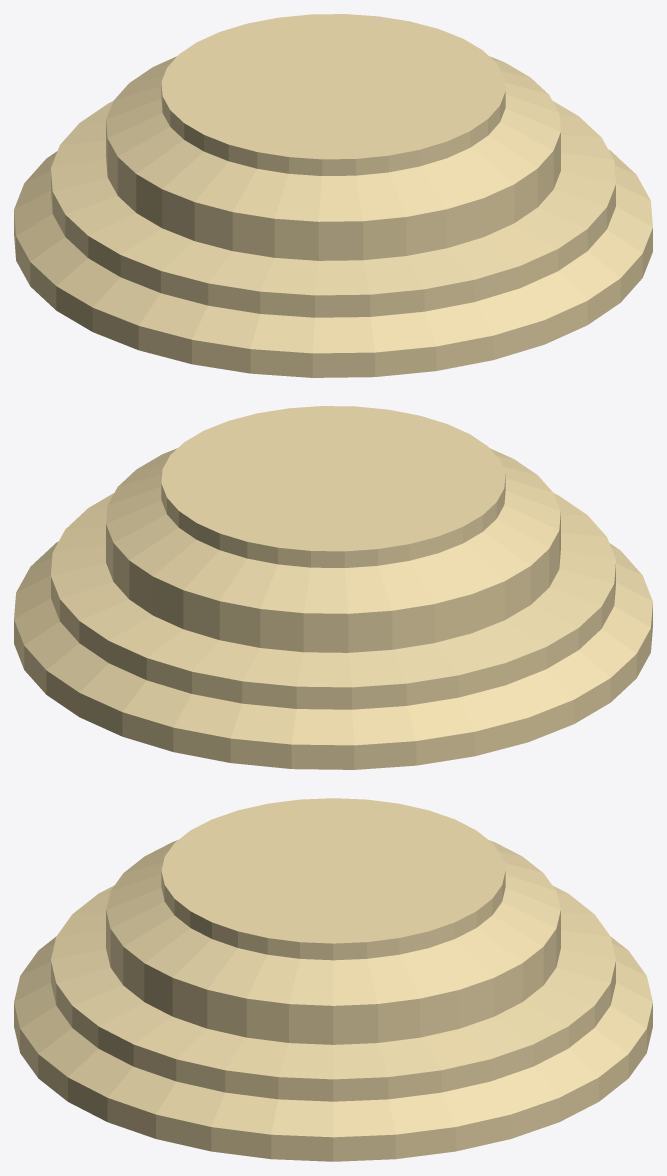
File: orrery-base.obj
The picture shows the model from 3 angles, top to bottom: view 1: azimuth 30°, elevation 25°; view 2: azimuth 150°, elevation 25°; view 3: azimuth 270°, elevation 25°; orthographic projection.
Size of the model in its own units: 5.2 by 1.4 by 5.2.
